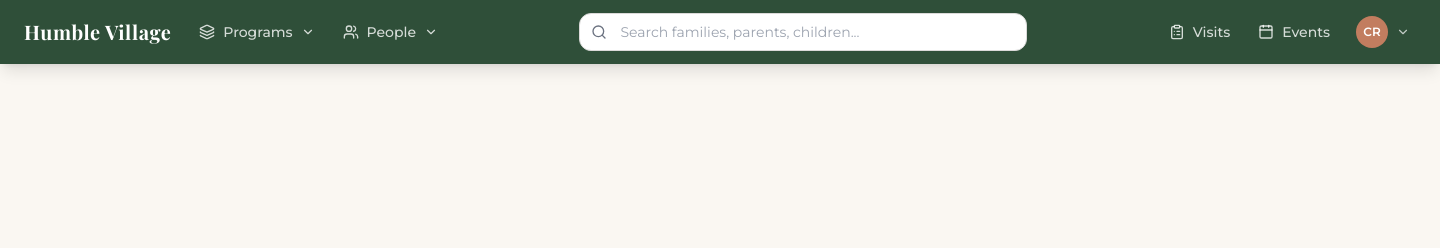
Test: Layout top nav › opens the profile menu with the language link and logout
expect the link "Language" is not shown: met
Click the button "CR" at (1383, 32), box [1350, 10, 1416, 54]
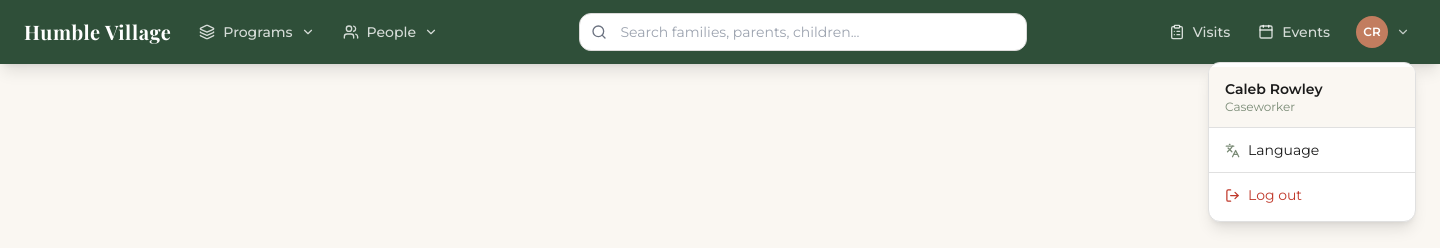
expect the button "Log out" is shown: met, box [1209, 173, 1415, 217]
